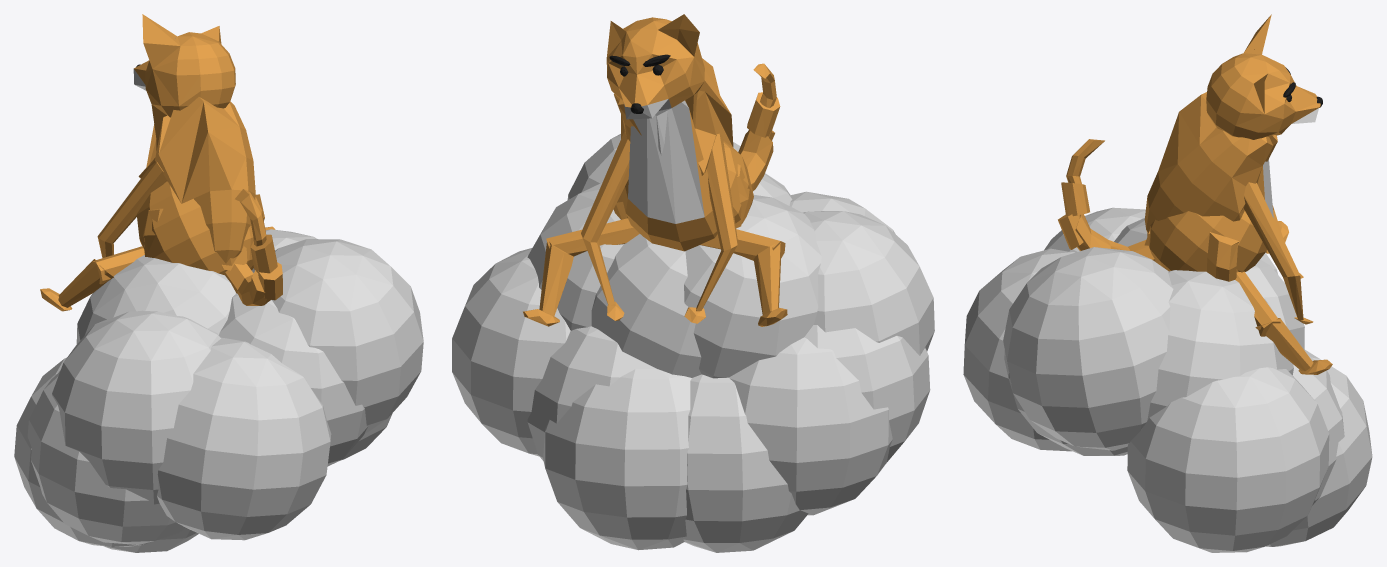
The model's file is animals-wise-dog-on-a-cloud-212.glb.
3 renders of one model, left to right at view 1: azimuth 30°, elevation 25°; view 2: azimuth 150°, elevation 25°; view 3: azimuth 270°, elevation 25°, orthographic. The views are drawn at different scales.
Parts seen in each view (by area): view 1: Node; view 2: Node; view 3: Node.
Boxes of the visible parts, x1,y1,x2,y2 form: Node: (14,14,423,552); Node: (452,14,934,552); Node: (963,14,1372,552).
Size of the model in its own units: 1.25 by 1.56 by 1.14.
